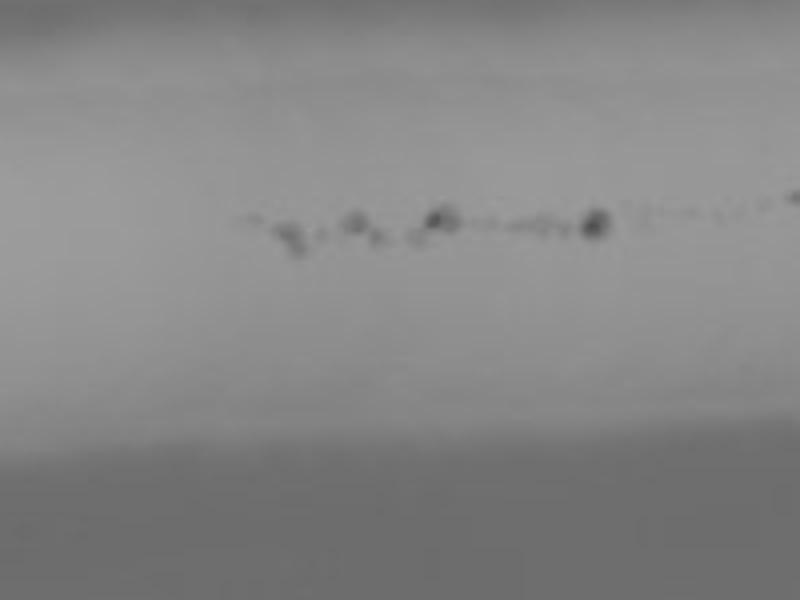defect: (507, 214, 575, 241), (270, 221, 308, 258), (427, 204, 462, 237), (582, 210, 612, 244), (339, 207, 365, 234), (406, 230, 431, 251), (242, 206, 266, 225), (367, 227, 387, 247), (788, 182, 798, 214), (313, 224, 327, 245)
